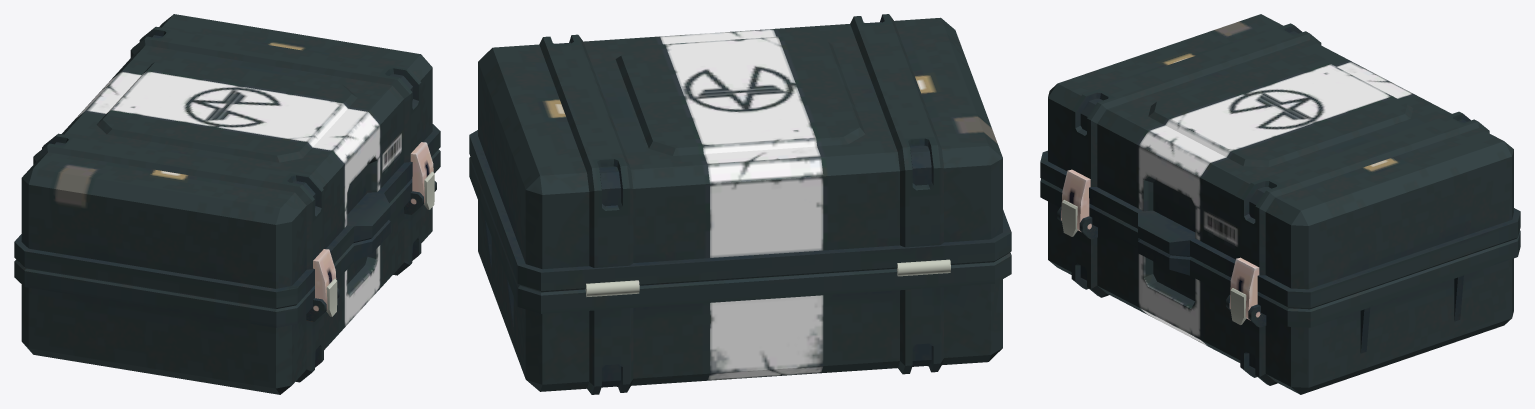
File: AirSupply (9).fbx
The picture shows the model from 3 angles, left to right: view 1: azimuth 30°, elevation 25°; view 2: azimuth 150°, elevation 25°; view 3: azimuth 270°, elevation 25°; orthographic projection. The views are drawn at different scales.
Visible parts, largest first — view 1: Box_upper, Crate, Lock_R_01 1, Lock_L_01 1; view 2: Box_upper, Crate; view 3: Box_upper, Crate, Lock_R_01 1, Lock_L_01 1, Lock_R_02 1, Lock_L_02 1.
Part boxes in pixels (x1,y1,x2,y2): Box_upper: (14, 14, 440, 308); Crate: (14, 149, 440, 394); Lock_R_01 1: (410, 142, 433, 202); Lock_L_01 1: (313, 249, 336, 309); Box_upper: (469, 14, 1011, 296); Crate: (469, 157, 1011, 394); Box_upper: (1040, 14, 1520, 309); Crate: (1040, 178, 1520, 394); Lock_R_01 1: (1229, 257, 1259, 320); Lock_L_01 1: (1061, 169, 1090, 231); Lock_R_02 1: (1230, 288, 1246, 324); Lock_L_02 1: (1062, 200, 1077, 236).
Size of the model in its own units: 1.6 by 0.682 by 1.54.
2 materials, 2 textured.
